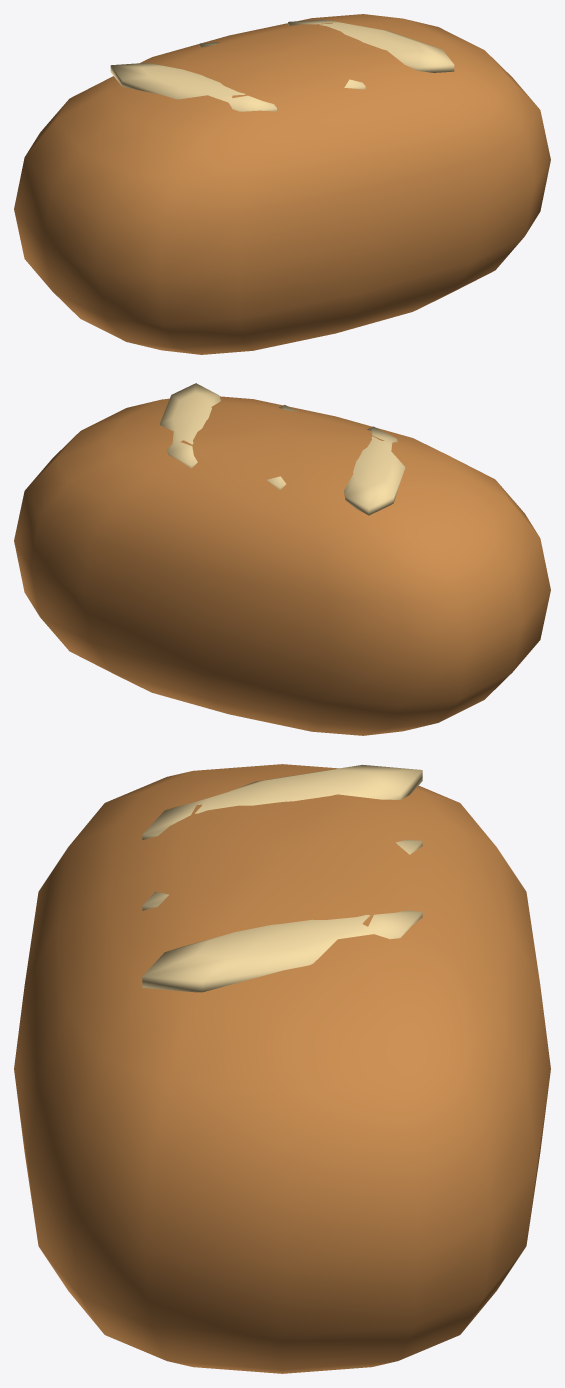
File: bread.glb
3 views of the same model, one above another, from view 1: azimuth 30°, elevation 25°; view 2: azimuth 150°, elevation 25°; view 3: azimuth 270°, elevation 25° (orthographic). The views are drawn at different scales.
Parts seen in each view (by area): view 1: item; view 2: item; view 3: item.
Part boxes in pixels (x1,y1,x2,y2): item: [14, 14, 550, 354]; item: [14, 383, 550, 735]; item: [14, 764, 550, 1373].
Bounding box in the file's own units: 0.54 × 0.28 × 0.32.
1 material, 1 textured.
